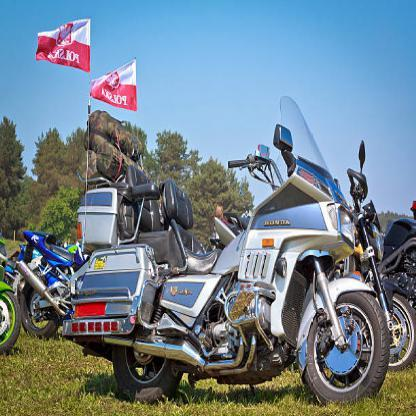Motorcycle: (65, 111, 396, 407)
